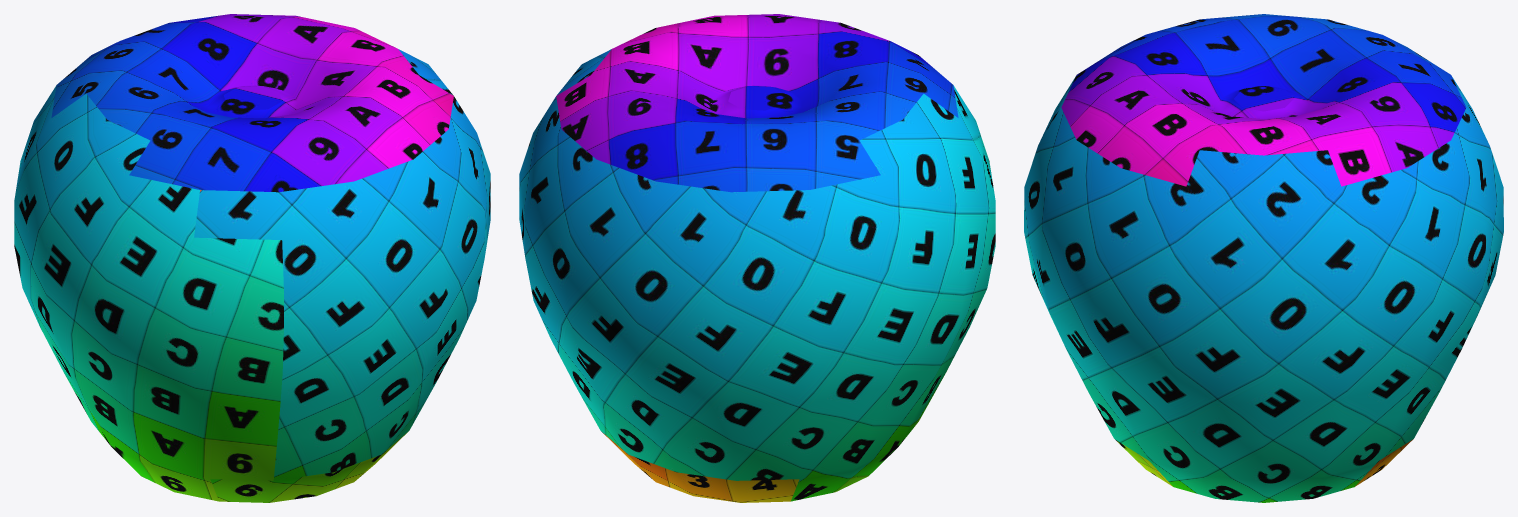
The model's file is Apple_txt_v01.fbx.
3 renders of one model, left to right at view 1: azimuth 30°, elevation 25°; view 2: azimuth 150°, elevation 25°; view 3: azimuth 270°, elevation 25°, orthographic.
Parts seen in each view (by area): view 1: Apple; view 2: Apple; view 3: Apple.
Boxes of the visible parts, box(x1,y1,x2,y2) form: Apple: box(14, 14, 490, 502); Apple: box(519, 14, 995, 502); Apple: box(1024, 14, 1503, 502).
Size of the model in its own units: 7.7 by 6.92 by 7.7.
Materials: 1 (1 with a texture image).
